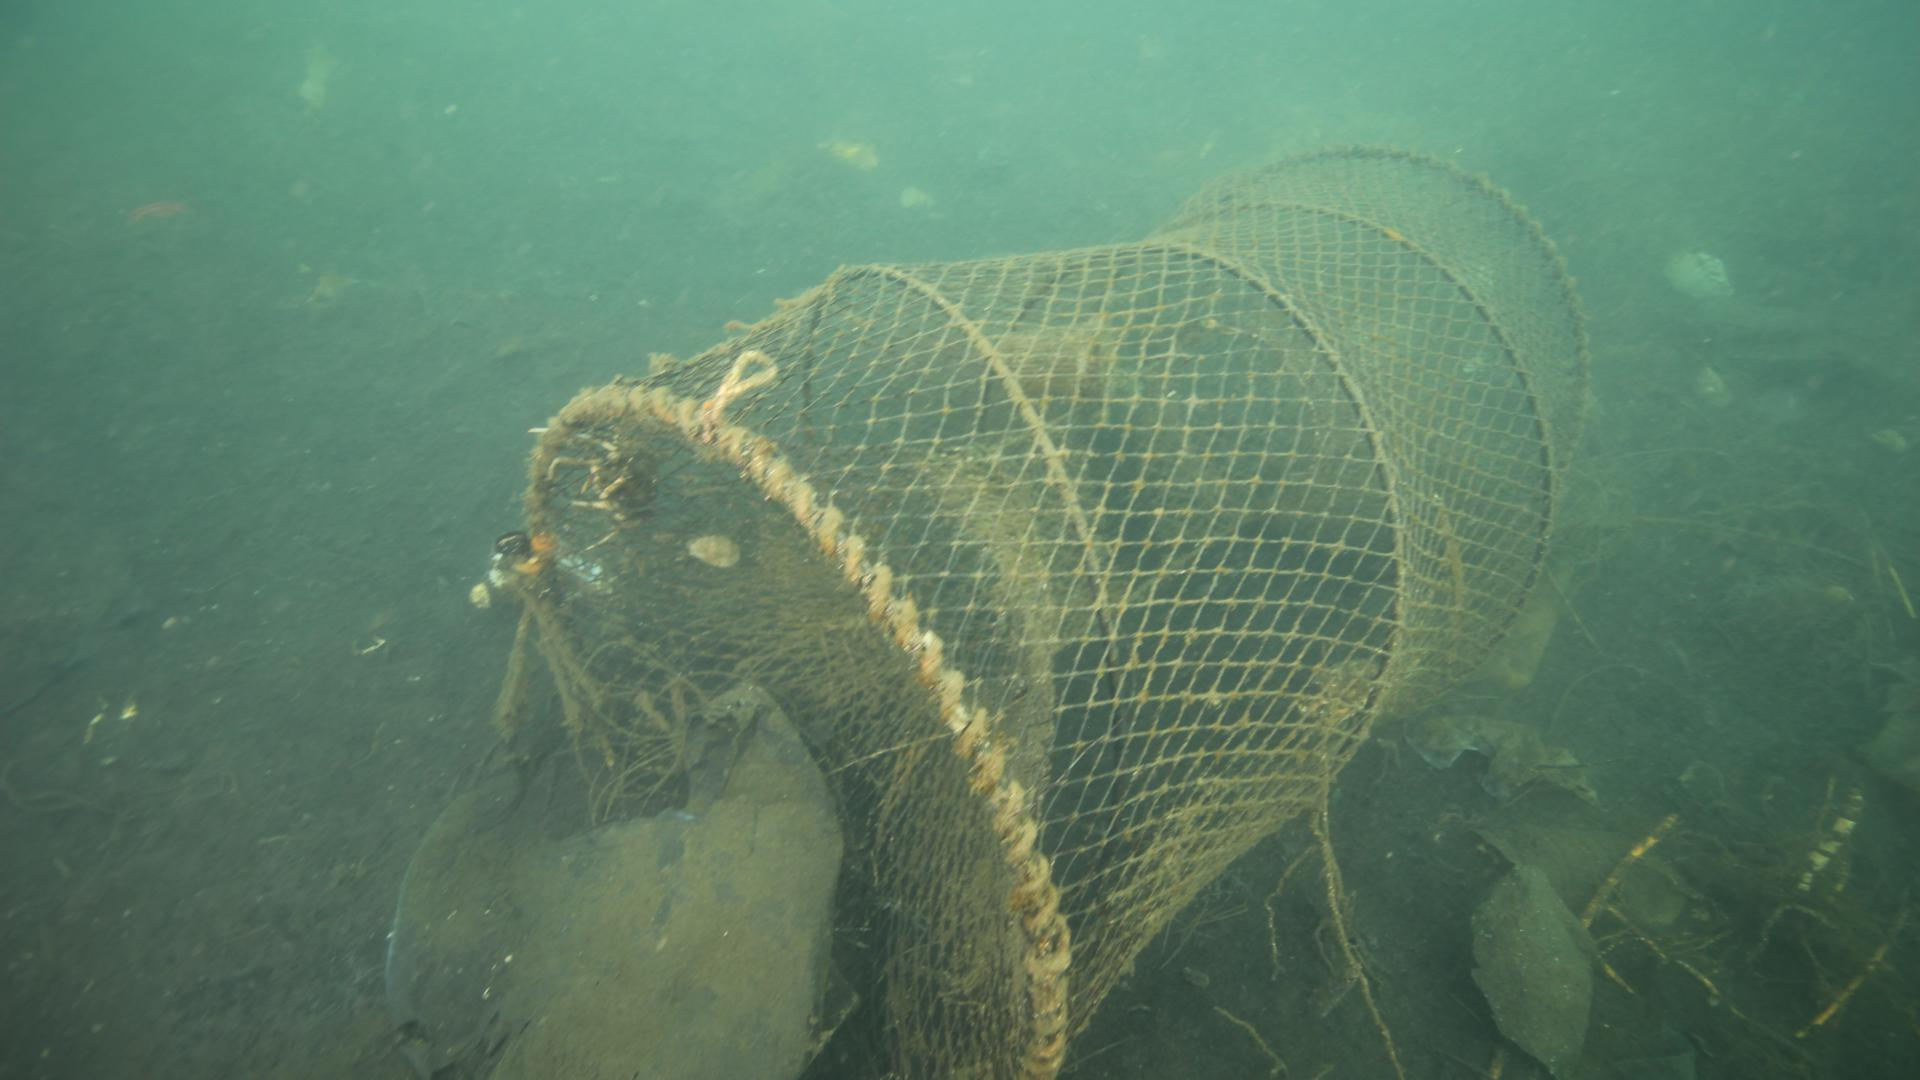spring fish trap: (520, 140, 1593, 1080)
